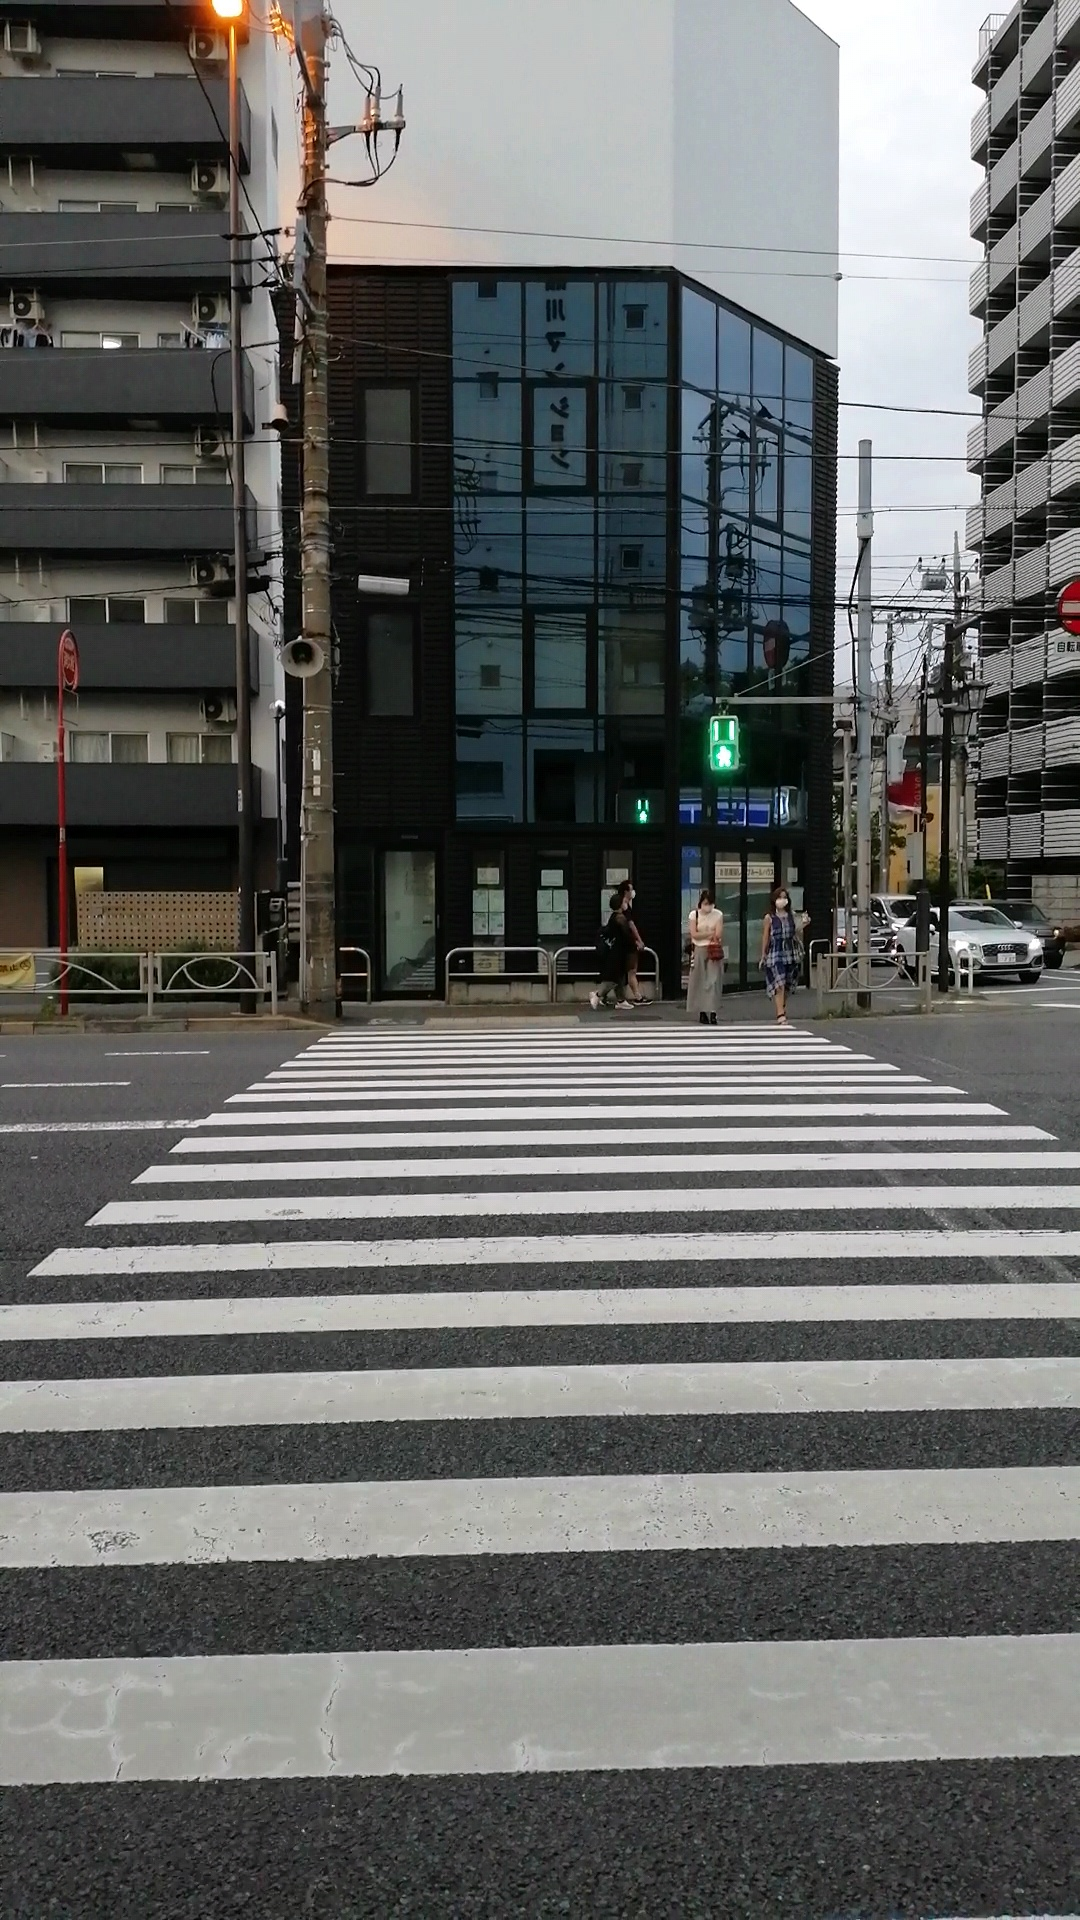green: (705, 715, 738, 771)
